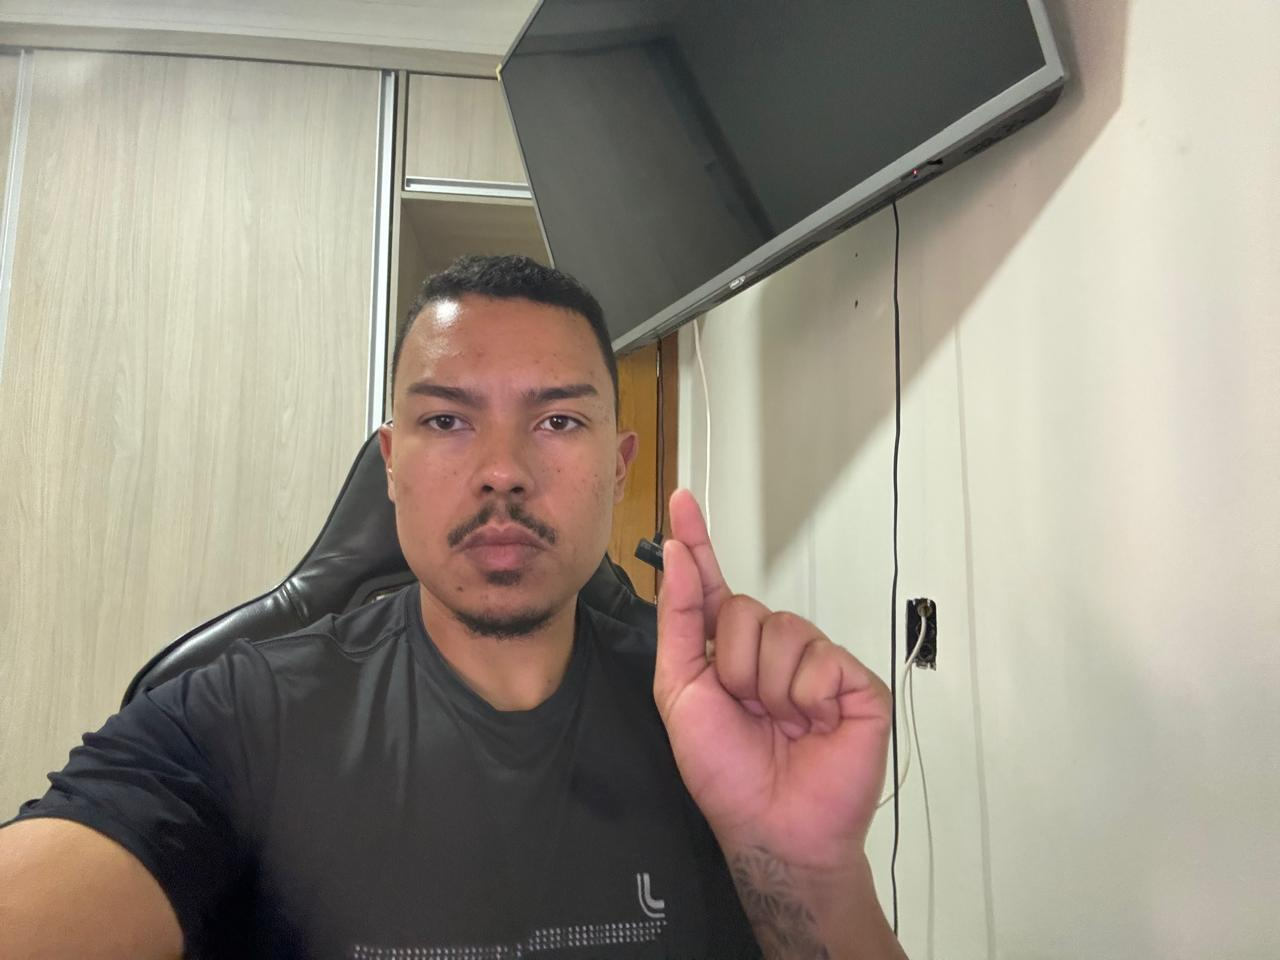g: (646, 476, 904, 865)
